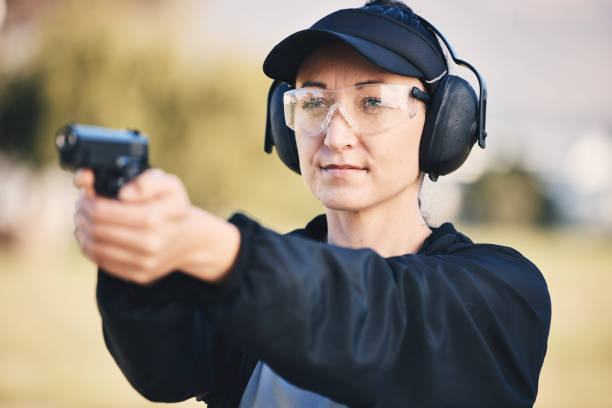gun: (53, 122, 151, 200)
